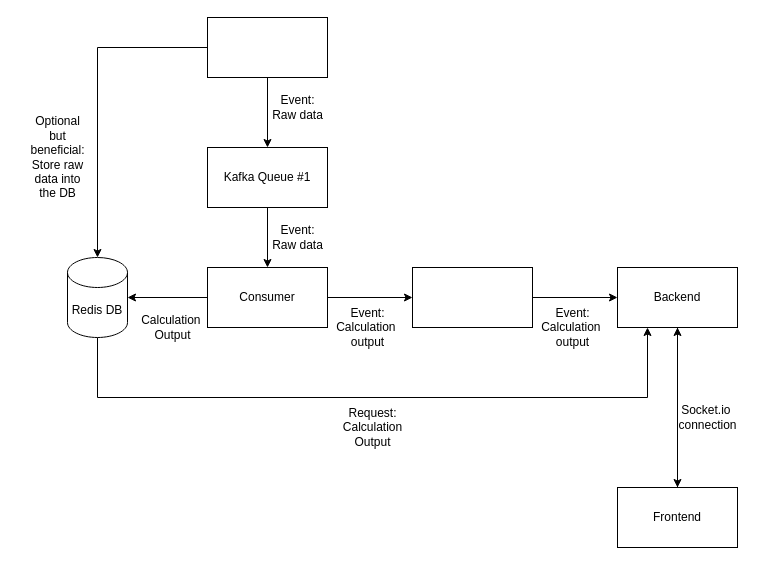
Some shapes in this 764 by 565 pixel diagram are drawn without their labels. Each missing label, with the centre of its shape:
"Data Producer/Sensor" belongs at (267,47).
"Kafka Queue #2" belongs at (472,297).
